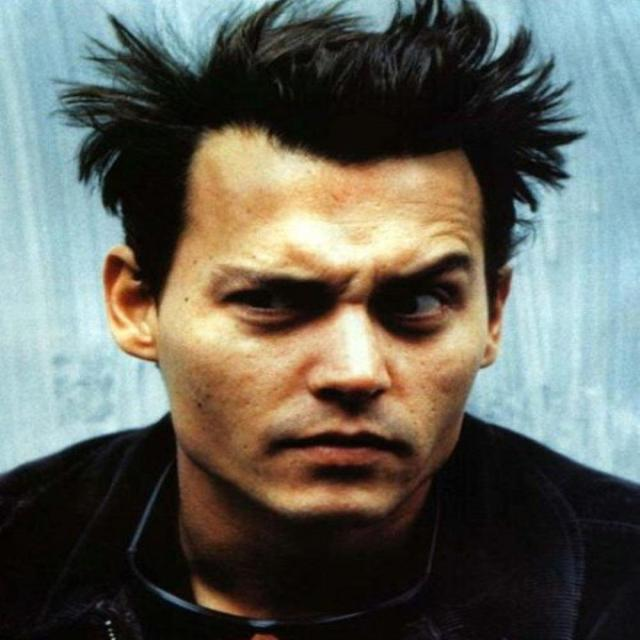no-earmuff: (73, 240, 196, 377), (478, 252, 527, 374)
